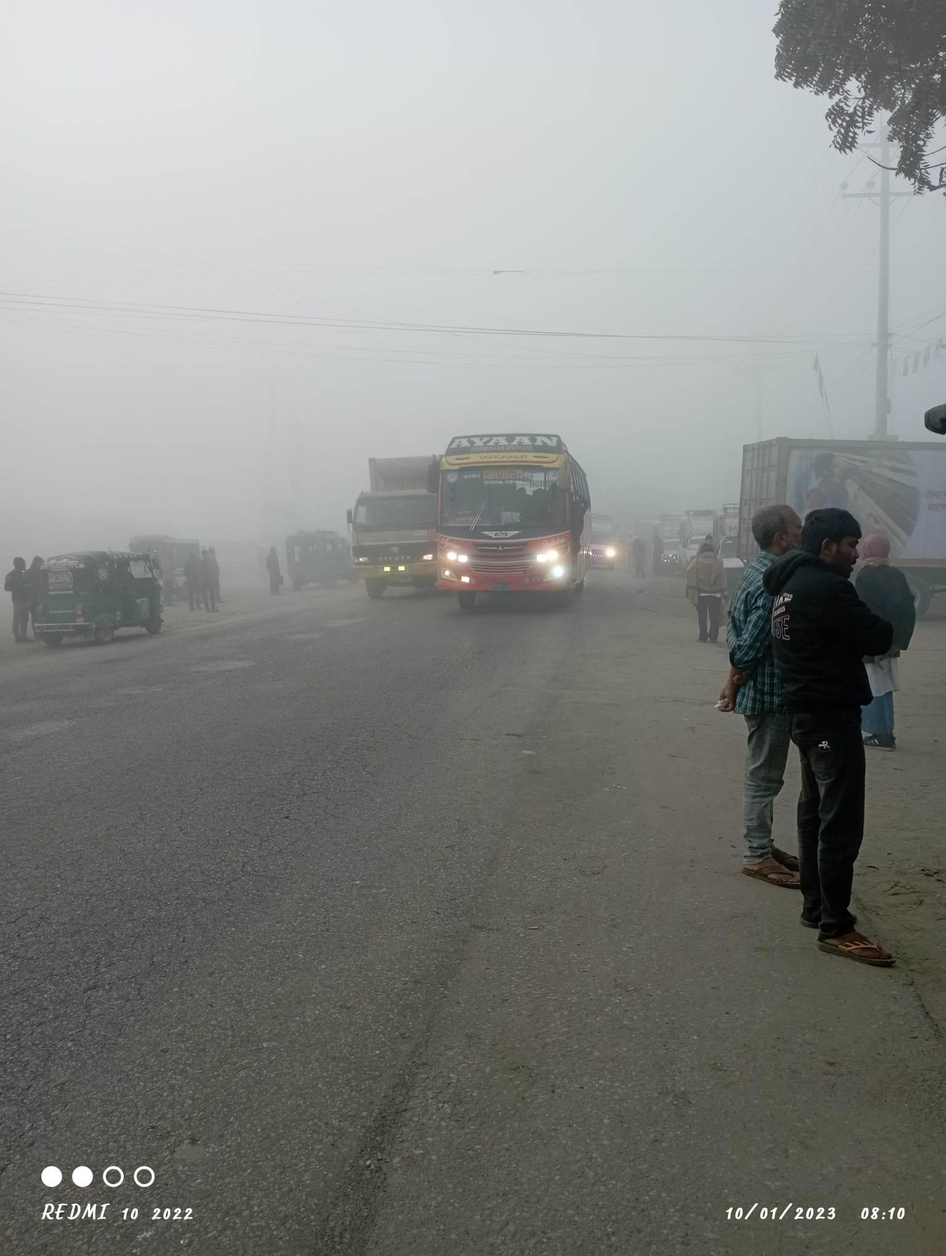Bus: (421, 412, 597, 666)
Truck: (735, 400, 946, 630), (325, 440, 451, 611)
